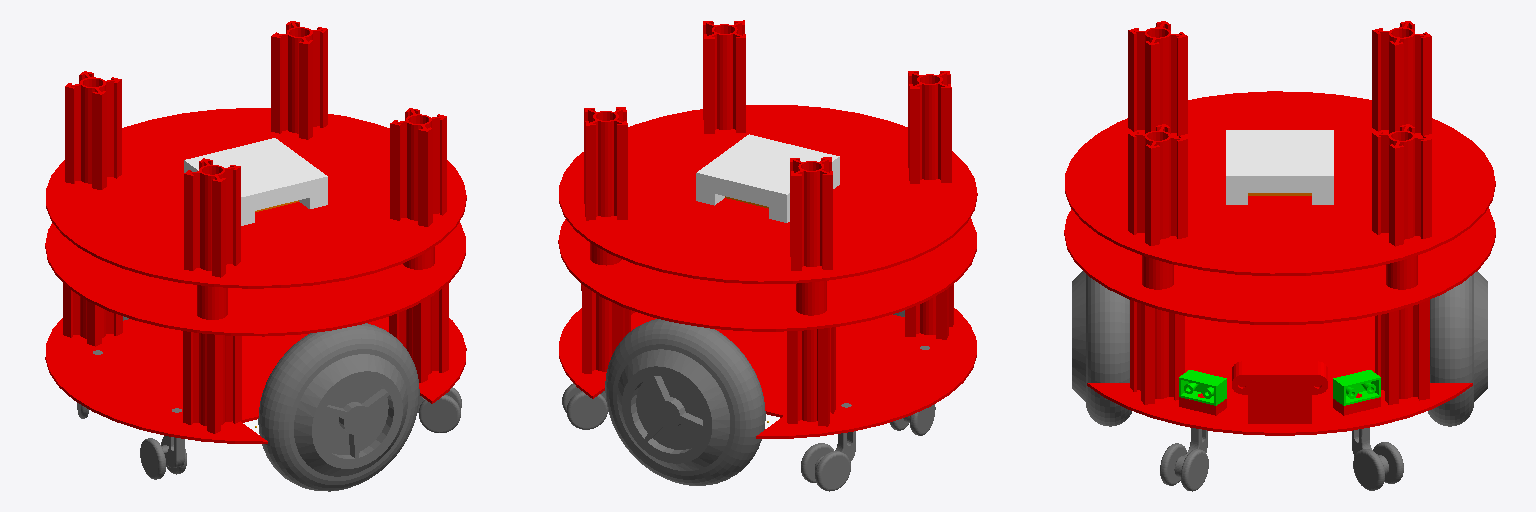
--- Facts derived from the render (not from the file) ---
Views: 3 orthographic renders of the robot side by side, from view 1: azimuth 30°, elevation 25°; view 2: azimuth 150°, elevation 25°; view 3: azimuth 270°, elevation 25°.
Model jason_robot with 17 links and 16 joints (10 continuous, 6 fixed), rooted at base_footprint_link, posed all joints at 0.
Links seen in each view (by area): view 1: base_link, rightwheel_link, imu_link, caster1_link, caster4_link, casterhandle4_link; view 2: base_link, leftwheel_link, imu_link, caster3_link, caster2_link, caster4_link; view 3: base_link, imu_link, rightwheel_link, leftwheel_link, depth_camera_link, caster2_link, caster1_link, leftsonar_link, rightsonar_link, casterhandle1_link.
Link boxes in pixels (x1,y1,x2,y2): base_link: [45, 21, 466, 443]; rightwheel_link: [258, 323, 419, 491]; imu_link: [184, 138, 327, 225]; caster1_link: [419, 387, 461, 432]; caster4_link: [140, 436, 186, 479]; casterhandle4_link: [161, 408, 184, 467]; base_link: [558, 20, 977, 438]; leftwheel_link: [605, 319, 765, 485]; imu_link: [696, 134, 839, 222]; caster3_link: [801, 443, 850, 491]; caster2_link: [562, 383, 607, 429]; caster4_link: [890, 404, 935, 435]; base_link: [1064, 21, 1495, 435]; imu_link: [1226, 130, 1333, 204]; rightwheel_link: [1072, 271, 1131, 426]; leftwheel_link: [1428, 271, 1487, 426]; depth_camera_link: [1232, 361, 1327, 394]; caster2_link: [1353, 442, 1403, 490]; caster1_link: [1160, 443, 1208, 491]; leftsonar_link: [1333, 370, 1380, 405]; rightsonar_link: [1179, 370, 1226, 405]; casterhandle1_link: [1174, 428, 1207, 476].
Size in the robot's own frame: 0.4 by 0.4 by 0.342 metres.
16 mesh visuals loaded from 15 distinct referenced files (15 binary STL).

URDF robot description (jason_robot):
<?xml version="1.0" encoding="utf-8"?>
<robot name="jason_robot">

  <!-- base_footprint:to aviod the robot model drop into groud -->
  <link name="base_footprint_link"> 
    <visual>
      <origin rpy = "0.0 0.0 0.0" xyz="0.0 0.0 0.0"/>
      <geometry>
        <sphere radius="0.001"/>
      </geometry>
    </visual>  
  </link>
  <joint name="base_footprint_joint" type="fixed">
    <parent link="base_footprint_link"/>
    <child link="base_link"/>
    <origin xyz = "0.0 0.0 0.0" rpy = "0.0 0.0 0.0"/>
  </joint>

                                        <!-- body -->
  <!-- base -->
  <link name="base_link">
    <inertial>
      <origin xyz="0.00000000 0.10108756 0.00623713" rpy="0 0 0" />
      <mass value="1.82483140" />
      <inertia ixx="0.03024727" ixy="0.00000000" ixz="0.00000000" 
               iyy="0.03975910" iyz="-0.00096624" izz="0.02932123"/>
    </inertial>
    <visual>
      <origin xyz="0 0 0" rpy="0 0 0"/>
      <geometry>
        <mesh filename="package://jason_description/meshes/base_link.STL"/>
      </geometry>
      <material name="Red">
        <color rgba="1 0 0 1"/>
      </material>
    </visual>
    <collision>
      <origin xyz="0 0 0" rpy="0 0 0" />
      <geometry>
        <mesh filename="package://jason_description/meshes/base_link.STL"/>
      </geometry>
    </collision>
  </link>

  <!-- leftwheel -->
  <link name="leftwheel_link">
    <inertial>
      <origin xyz="0.025015 1.5613E-17 3.3827E-17" rpy="0 0 0"/>
      <mass value="0.97002"/>
      <inertia ixx="0.0031479" ixy="-2.0133E-20" ixz="-3.4297E-20" 
               iyy="0.0017677" iyz="-1.0842E-19" izz="0.0017677"/>
    </inertial>
    <visual>
      <origin xyz="0 0 0" rpy="0 0 0"/>
      <geometry>
        <mesh filename="package://jason_description/meshes/leftwheel.STL"/>
      </geometry>
      <material name="Grey">
        <color rgba="0.5 0.5 0.5 1"/>
      </material>
    </visual>
    <collision>
      <origin xyz="0 0 0" rpy="0 0 0"/>
      <geometry>
        <mesh filename="package://jason_description/meshes/leftwheel.STL"/>
      </geometry>
    </collision>
  </link>
  <joint name="leftwheel_joint" type="continuous">
    <origin xyz="0 0.135 0.085" rpy="1.9846 0 1.5708"/>
    <parent link="base_link"/>
    <child link="leftwheel_link"/>
    <axis xyz="1 0 0"/>
    <limit effort="100" velocity="100"/>
  </joint>
  <transmission name="leftwheel_joint_trans">
    <type>transmission_interface/SimpleTransmission</type>
    <joint name="leftwheel_joint">
        <hardwareInterface>hardware_interface/VelocityJointInterface</hardwareInterface>
    </joint>
    <actuator name="leftwheel_joint_motor">
        <hardwareInterface>hardware_interface/VelocityJointInterface</hardwareInterface>
        <mechanicalReduction>1</mechanicalReduction>
    </actuator>
</transmission>

  <!-- rightwheel -->
  <link name="rightwheel_link">
    <inertial>
      <origin xyz="0.0250147602908531 5.20417042793042E-18 0" rpy="0 0 0" />
      <mass value="0.970024552759726" />
      <inertia ixx="0.0031479187861595" ixy="5.18498633207202E-19" ixz="-4.35193244517078E-19" 
               iyy="0.00176772418850793" iyz="1.62630325872826E-19" izz="0.00176772418850793" />
    </inertial>
    <visual>
      <origin xyz="0 0 0" rpy="0 0 0" />
      <geometry>
        <mesh filename="package://jason_description/meshes/rightwheel.STL" />
      </geometry>
      <material name="Grey">
        <color rgba="0.5 0.5 0.5 1" />
      </material>
    </visual>
    <collision>
      <origin xyz="0 0 0" rpy="0 0 0" />
      <geometry>
        <mesh filename="package://jason_description/meshes/rightwheel.STL" />
      </geometry>
    </collision>
  </link>
  <joint name="rightwheel_joint" type="continuous">
    <origin xyz="0 -0.135 0.085" rpy="0.5198 0 -1.5708" />
    <parent link="base_link" />
    <child link="rightwheel_link" />
    <axis xyz="-1 0 0" />
    <limit effort="100" velocity="100" />
  </joint>
  <transmission name="rightwheel_joint_trans">
  <type>transmission_interface/SimpleTransmission</type>
  <joint name="rightwheel_joint">
      <hardwareInterface>hardware_interface/VelocityJointInterface</hardwareInterface>
  </joint>
  <actuator name="rightwheel_joint_motor">
      <hardwareInterface>hardware_interface/VelocityJointInterface</hardwareInterface>
      <mechanicalReduction>1</mechanicalReduction>
  </actuator>
</transmission>

  <!-- casterhandle1 -->
  <link name="casterhandle1_link">
    <inertial>
      <origin xyz="0 0.0297669849189359 -0.00695284912191863" rpy="0 0 0" />
      <mass value="0.0107364974282701" />
      <inertia ixx="5.80576146335529E-06" ixy="-2.43521972335611E-21" ixz="-1.48230765769503E-21"
               iyy="1.45396246086487E-06" iyz="-1.41313210015193E-06" izz="4.55928007631684E-06" />
    </inertial>
    <visual>
      <origin xyz="0 0 0" rpy="0 0 0" />
      <geometry>
        <mesh filename="package://jason_description/meshes/casterhandle1.STL" />
      </geometry>
      <material name="Grey">
        <color rgba="0.5 0.5 0.5 1" />
      </material>
    </visual>
    <collision>
      <origin xyz="0 0 0" rpy="0 0 0" />
      <geometry>
        <mesh filename="package://jason_description/meshes/casterhandle1.STL" />
      </geometry>
    </collision>
  </link>
  <joint name="casterhandle1_joint" type="continuous">
    <origin xyz="0.1299 -0.075 0.01" rpy="1.5708 0 -2.1443" />
    <parent link="base_link" />
    <child link="casterhandle1_link" />
    <axis xyz="0 -1 0" />
    <limit effort="100" velocity="100" />
  </joint>

  <!-- caster1 -->
  <link name="caster1_link">
    <inertial>
      <origin xyz="0 0 0" rpy="0 0 0" />
      <mass value="0.0203459824312811" />
      <inertia ixx="3.68448896895517E-06" ixy="2.38228016415272E-22" ixz="2.01170324972896E-21"
               iyy="4.49587566651826E-06" iyz="-1.05879118406788E-22" izz="4.49587566651827E-06" />
    </inertial>
    <visual>
      <origin xyz="0 0 0" rpy="0 0 0" />
      <geometry>
        <mesh filename="package://jason_description/meshes/caster1.STL" />
      </geometry>
      <material name="Grey">
        <color rgba="0.5 0.5 0.5 1" />
      </material>
    </visual>
    <collision>
      <origin xyz="0 0 0" rpy="0 0 0" />
      <geometry>
        <mesh filename="package://jason_description/meshes/caster1.STL" />
      </geometry>
    </collision>
  </link>
  <joint name="caster1_joint" type="continuous">
    <origin xyz="0 0.01 -0.025" rpy="-0.21648 0 -3.1416" />
    <parent link="casterhandle1_link" />
    <child link="caster1_link" />
    <axis xyz="1 0 0" />
    <limit effort="100" velocity="100" />
  </joint>

  <!-- casterhandle2 -->
  <link name="casterhandle2_link">
    <inertial>
      <origin xyz="2.08166817117217E-17 0.0297669849189359 -0.00695284912191868" rpy="0 0 0" />
      <mass value="0.0107364974282701" />
      <inertia ixx="5.80576146335528E-06" ixy="-5.29395592033938E-22" ixz="-1.27054942088145E-21"
               iyy="1.45396246086487E-06" iyz="-1.41313210015192E-06" izz="4.55928007631684E-06" />
    </inertial>
    <visual>
      <origin xyz="0 0 0" rpy="0 0 0" />
      <geometry>
        <mesh filename="package://jason_description/meshes/casterhandle2.STL" />
      </geometry>
      <material name="Grey">
        <color rgba="0.5 0.5 0.5 1" />
      </material>
    </visual>
    <collision>
      <origin xyz="0 0 0" rpy="0 0 0" />
      <geometry>
        <mesh filename="package://jason_description/meshes/casterhandle2.STL" />
      </geometry>
    </collision>
  </link>
  <joint name="casterhandle2_joint" type="continuous">
    <origin xyz="0.1299 0.075 0.01" rpy="1.5708 0 -0.85675" />
    <parent link="base_link" />
    <child link="casterhandle2_link" />
    <axis xyz="0 -1 0" />
    <limit effort="100" velocity="100" />
  </joint>

  <!-- caster2 -->
  <link name="caster2_link">
    <inertial>
      <origin xyz="5.55111512312578E-17 0 0" rpy="0 0 0" />
      <mass value="0.0203459824312811" />
      <inertia ixx="3.68448896895516E-06" ixy="-1.05879118406788E-22" ixz="-2.64697796016969E-23" 
               iyy="4.49587566651826E-06" iyz="-1.58818677610181E-22" izz="4.49587566651826E-06" />
    </inertial>
    <visual>
      <origin xyz="0 0 0" rpy="0 0 0" />
      <geometry>
        <mesh filename="package://jason_description/meshes/caster2.STL" />
      </geometry>
      <material name="Grey">
        <color rgba="0.5 0.5 0.5 1" />
      </material>
    </visual>
    <collision>
      <origin xyz="0 0 0" rpy="0 0 0" />
      <geometry>
        <mesh filename="package://jason_description/meshes/caster2.STL" />
      </geometry>
    </collision>
  </link>
  <joint name="caster2_joint" type="continuous">
    <origin xyz="0 0.01 -0.025" rpy="-1.4513 0 0" />
    <parent link="casterhandle2_link" />
    <child link="caster2_link" />
    <axis xyz="1 0 0" />
    <limit effort="100" velocity="100" />
  </joint>

  <!-- casterhandle3 -->
  <link name="casterhandle3_link">
    <inertial>
      <origin xyz="0 0.0297669849189359 -0.00695284912191872" rpy="0 0 0" />
      <mass value="0.0107364974282701" />
      <inertia ixx="5.80576146335528E-06" ixy="-3.17637355220363E-22" ixz="-3.17637355220363E-22"
               iyy="1.45396246086487E-06" iyz="-1.41313210015192E-06" izz="4.55928007631684E-06" />
    </inertial>
    <visual>
      <origin xyz="0 0 0" rpy="0 0 0" />
      <geometry>
        <mesh filename="package://jason_description/meshes/casterhandle3.STL" />
      </geometry>
      <material name="Grey">
        <color rgba="0.5 0.5 0.5 1" />
      </material>
    </visual>
    <collision>
      <origin xyz="0 0 0" rpy="0 0 0" />
      <geometry>
        <mesh filename="package://jason_description/meshes/casterhandle3.STL" />
      </geometry>
    </collision>
  </link>
  <joint name="casterhandle3_joint" type="continuous">
    <origin xyz="-0.1299 0.075 0.01" rpy="1.5708 0 -0.39591" />
    <parent link="base_link" />
    <child link="casterhandle3_link" />
    <axis xyz="0 -1 0" />
    <limit effort="100" velocity="100" />
  </joint>

  <!-- caster3 -->
  <link name="caster3_link">
    <inertial>
      <origin xyz="1.38777878078145E-16 0 -6.93889390390723E-18" rpy="0 0 0" />
      <mass value="0.0203459824312811" />
      <inertia ixx="3.68448896895516E-06" ixy="-1.58818677610181E-22" ixz="1.27054942088145E-21"
               iyy="4.49587566651827E-06" iyz="-1.32348898008484E-22" izz="4.49587566651827E-06" />
    </inertial>
    <visual>
      <origin xyz="0 0 0" rpy="0 0 0" />
      <geometry>
        <mesh filename="package://jason_description/meshes/caster3.STL" />
      </geometry>
      <material name="Grey">
        <color rgba="0.5 0.5 0.5 1" />
      </material>
    </visual>
    <collision>
      <origin xyz="0 0 0" rpy="0 0 0" />
      <geometry>
        <mesh filename="package://jason_description/meshes/caster3.STL" />
      </geometry>
    </collision>
  </link>
  <joint name="caster3_joint" type="continuous">
    <origin xyz="0 0.01 -0.025" rpy="0.53778 0 0" />
    <parent link="casterhandle3_link" />
    <child link="caster3_link" />
    <axis xyz="1 0 0" />
    <limit effort="100" velocity="100" />
  </joint>

  <!-- casterhandle4 -->
  <link name="casterhandle4_link">
    <inertial>
      <origin xyz="2.77555756156289E-17 0.0297669849189359 -0.00695284912191868" rpy="0 0 0" />
      <mass value="0.0107364974282701" />
      <inertia ixx="5.80576146335528E-06" ixy="6.37425380033363E-21" ixz="5.84982129197501E-21"
               iyy="1.45396246086487E-06" iyz="-1.41313210015192E-06" izz="4.55928007631684E-06" />
    </inertial>
    <visual>
      <origin xyz="0 0 0" rpy="0 0 0" />
      <geometry>
        <mesh filename="package://jason_description/meshes/casterhandle4.STL" />
      </geometry>
      <material name="Grey">
        <color rgba="0.5 0.5 0.5 1" />
      </material>
    </visual>
    <collision>
      <origin xyz="0 0 0" rpy="0 0 0" />
      <geometry>
        <mesh filename="package://jason_description/meshes/casterhandle4.STL" />
      </geometry>
    </collision>
  </link>
  <joint name="casterhandle4_joint" type="continuous">
    <origin xyz="-0.1299 -0.075 0.01" rpy="1.5708 0 0.0055428" />
    <parent link="base_link" />
    <child link="casterhandle4_link" />
    <axis xyz="0 -1 0" />
    <limit effort="100" velocity="100" />
  </joint>

  <!-- caster4 -->
  <link name="caster4_link">
    <inertial>
      <origin xyz="5.55111512312578E-17 6.93889390390723E-18 -1.38777878078145E-17" rpy="0 0 0" />
      <mass value="0.020345982431281" />
      <inertia ixx="3.68448896895516E-06" ixy="-1.61920604907255E-21" ixz="-3.8513529320469E-21"
               iyy="4.49587566651826E-06" iyz="-1.83874818469722E-22" izz="4.49587566651826E-06" />
    </inertial>
    <visual>
      <origin xyz="0 0 0" rpy="0 0 0" />
      <geometry>
        <mesh filename="package://jason_description/meshes/caster4.STL" />
      </geometry>
      <material name="Grey">
        <color rgba="0.5 0.5 0.5 1" />
      </material>
    </visual>
    <collision>
      <origin xyz="0 0 0" rpy="0 0 0" />
      <geometry>
        <mesh filename="package://jason_description/meshes/caster4.STL" />
      </geometry>
    </collision>
  </link>
  <joint name="caster4_joint" type="continuous">
    <origin xyz="0 0.01 -0.025" rpy="0.20426 0 0" />
    <parent link="casterhandle4_link" />
    <child link="caster4_link" />
    <axis xyz="1 0 0" />
    <limit effort="100" velocity="100" />
  </joint>

  <!-- imu -->
  <link name="imu_link">
    <inertial>
      <origin xyz="0 0 0" rpy="0 0 0" />
      <mass value="0" />
      <inertia ixx="0" ixy="0" ixz="0"
               iyy="0" iyz="0" izz="0" />
    </inertial>
    <visual>
      <origin xyz="0 0 0" rpy="0 0 0" />
      <geometry>
        <mesh filename="package://jason_description/meshes/imu.STL" />
      </geometry>
      <material name="White">
        <color rgba="1 1 1 1" />
      </material>
    </visual>
    <collision>
      <origin xyz="0 0 0" rpy="0 0 0" />
      <geometry>
        <mesh filename="package://jason_description/meshes/imu.STL" />
      </geometry>
    </collision>
  </link>
  <joint name="imu_joint" type="fixed">
    <origin xyz="0 0 0.241" rpy="0 0 1.5708" />
    <parent link="base_link" />
    <child link="imu_link" />
    <axis xyz="0 0 0" />
  </joint>  

                                        <!-- sensors -->
  <!-- lidar -->
  <link name="lidar_link">
    <inertial>
      <origin xyz="4.09310872603549E-16 3.99729920717014E-16 0.0153948317043902" rpy="0 0 0" />
      <mass value="0.0840106255359657" />
      <inertia ixx="2.77081844063037E-05" ixy="1.41172157875717E-21" ixz="2.29728265499214E-22" 
               iyy="2.77081844063037E-05" iyz="3.63907857867545E-22" izz="3.448474197593E-05" />
    </inertial>
    <visual>
      <origin xyz="0 0 0" rpy="3.14159 0 0" />
      <geometry>
        <mesh filename="package://jason_description/meshes/lidar.STL" />
      </geometry>
      <material name="Orange">
        <color rgba="1.0 0.5 0 1" />
      </material>
    </visual>
    <collision>
      <origin xyz="0 0 0" rpy="0 0 0" />
      <geometry>
        <mesh filename="package://jason_description/meshes/lidar.STL" />
      </geometry>
    </collision>
  </link>
  <joint name="lidar_joint" type="fixed">
    <origin xyz="0 0 0.248" rpy="0  0  0" />
    <parent link="base_link" />
    <child link="lidar_link" />
    <axis xyz="0 0 0" />
  </joint>

                                          <!-- camera -->
  <!-- camera -->
  <link name="depth_camera_link">
    <inertial>
      <origin xyz="0.00885919804493583 0.011427228102544 0.0149191163471901" rpy="0 0 0" />
      <mass value="0.0503377869026273" />
      <inertia ixx="5.40435557385604E-06" ixy="-2.01817407752424E-21" ixz="2.43872238839389E-22"
               iyy="3.51518348354752E-05" iyz="-3.17629361829215E-10" izz="3.29633328279795E-05" />
    </inertial>
    <visual>
      <origin xyz="0 0 0" rpy="1.5708 0 1.5708" />
      <geometry>
        <mesh filename="package://jason_description/meshes/depth_camera.STL" />
      </geometry>
      <material name="Red">
        <color rgba="1 0 0 1" />
      </material>
    </visual>
    <collision>
      <origin xyz="0 0 0" rpy="0 0 0" />
      <geometry>
        <mesh filename="package://jason_description/meshes/depth_camera.STL" />
      </geometry>
    </collision>
  </link>
  <joint name="depth_camera_joint" type="fixed">
    <origin xyz="0.15 -0.0088592 0.10665" rpy="0 0 0" />
    <parent link="base_link" />
    <child link="depth_camera_link" />
    <axis xyz="0 0 0" />
  </joint>

                                        <!-- sonars -->
  <!-- leftsonar -->
  <link name="leftsonar_link">
    <inertial>
      <origin xyz="0.00792027808007231 0.000168686050255766 -3.40353925598613E-11" rpy="0 0 0" />
      <mass value="0.00838075367254196" />
      <inertia ixx="1.66380504569355E-06" ixy="-2.94013297145479E-09" ixz="2.87516389806945E-15"
               iyy="1.63719750563248E-06" iyz="-9.53790082675265E-13" izz="6.5615682924952E-07" />
    </inertial>
    <visual>
      <origin xyz="0 0 0" rpy="0 0 0" />
      <geometry>
        <mesh filename="package://jason_description/meshes/sonar.STL" />
      </geometry>
      <material name="Green">
        <color rgba="0 1 0 1" />
      </material>
    </visual>
    <collision>
      <origin xyz="0 0 0" rpy="0 0 0" />
      <geometry>
        <mesh filename="package://jason_description/meshes/sonar.STL" />
      </geometry>
    </collision>
  </link>
  <joint
    name="leftsonar_joint"
    type="fixed">
    <origin xyz="0.1349 0.06634 0.098" rpy="1.5708 0 0.5236" />
    <parent link="base_link" />
    <child link="leftsonar_link" />
    <axis xyz="0 0 0" />
  </joint>

  <!-- right_sonar -->
  <link name="rightsonar_link">
    <inertial>
      <origin xyz="0.00792027808007228 0.000168686050255773 -3.40354064376491E-11" rpy="0 0 0" />
      <mass value="0.00838075367254196" />
      <inertia ixx="1.66380504569355E-06" ixy="-2.94013297145484E-09" ixz="2.87516246870135E-15"
               iyy="1.63719750563248E-06" iyz="-9.53790082856004E-13" izz="6.5615682924952E-07" />
    </inertial>
    <visual>
      <origin xyz="0 0 0" rpy="0 0 0" />
      <geometry>
        <mesh filename="package://jason_description/meshes/sonar.STL" />
      </geometry>
      <material name="Green">
        <color rgba="0 1 0 1" />
      </material>
    </visual>
    <collision>
      <origin xyz="0 0 0" rpy="0 0 0" />
      <geometry>
        <mesh filename="package://jason_description/meshes/sonar.STL" />
      </geometry>
    </collision>
  </link>
  <joint name="rightsonar_joint" type="fixed">
    <origin xyz="0.1349 -0.06634 0.098" rpy="1.5708 0 -0.5236" />
    <parent link="base_link" />
    <child link="rightsonar_link" />
    <axis xyz="0 0 0" />
  </joint>

                                        <!-- gazebo plugin for WHEELS -->
  <gazebo>
    <plugin name="differential_drive_controller" filename="libgazebo_ros_diff_drive.so">
      <updateRate>10</updateRate>
      <leftJoint>leftwheel_joint</leftJoint>
      <rightJoint>rightwheel_joint</rightJoint>
      <!-- The distance from the center of one wheel to the other, in meters, defaults to 0.34 m -->
      <wheelSeparation>0.315</wheelSeparation>
      <wheelDiameter>0.17</wheelDiameter>
      <!-- Wheel acceleration, in rad/s^2, defaults to 0.0 rad/s^2 -->
      <wheelAcceleration>2.0</wheelAcceleration>
      <!-- Maximum torque which the wheels can produce, in Nm, defaults to 5 Nm -->
      <wheelTorque>40</wheelTorque>
      <commandTopic>cmd_vel_b</commandTopic>
      <odometryTopic>odom</odometryTopic>
      <odometryFrame>odom</odometryFrame>
      <robotBaseFrame>base_footprint_link</robotBaseFrame>
      <!-- Odometry source, 0 for ENCODER, 1 for WORLD, defaults to WORLD -->
      <odometrySource>1</odometrySource>
      <publishWheelTF>true</publishWheelTF>
      <publishOdom>true</publishOdom>
      <publishWheelJointState>true</publishWheelJointState>
      <!-- Set to true to swap right and left wheels, defaults to true -->
      <legacyMode>false</legacyMode>
    </plugin>
  </gazebo>

                                        <!-- gazebo plugin for LIDAR -->
  <gazebo reference="lidar_link">
    <sensor type="ray" name="head_hokuyo_sensor">
      <pose>0 0 -0.03 0 0 0</pose>
      <visualize>true</visualize>
      <update_rate>15</update_rate> 
      <ray>
        <scan>
          <horizontal>
            <!-- 水平角分辨率LDS-E300-E: 0.5°@25HZ -->
            <samples>720</samples>
            <resolution>1</resolution>
            <min_angle>-3.1415926535</min_angle>
            <!-- <min_angle>-1.570796</min_angle> -->
            <max_angle>3.1415926535</max_angle>
            <!-- <max_angle>1.570796</max_angle> -->
          </horizontal>
        </scan>
        <range>
          <!-- 0.1-25m（90%） -->
          <min>0.21</min>
          <max>25.0</max>
          <!-- 距离分辨率mm级 -->
          <resolution>0.01</resolution>
        </range>
        <noise>
          <type>gaussian</type>
          <!-- Noise parameters based on published spec for Hokuyo laser
                achieving "+-30mm" accuracy at range < 10m.  A mean of 0.0m and
                stddev of 0.01m will put 99.7% of samples within 0.03m of the true
                reading. -->
          <mean>0.0</mean>
          <stddev>0.01</stddev>
        </noise>
      </ray>
      <!-- GPU Laser -->
      <!-- <plugin name="gazebo_ros_head_hokuyo_controller" filename="libgazebo_ros_gpu_laser.so"> -->
        <plugin name="gazebo_ros_head_hokuyo_controller" filename="libgazebo_ros_laser.so">
        <topicName>/scan_b</topicName>
        <frameName>lidar_link</frameName>
      </plugin>
    </sensor>
  </gazebo>                                        

                                        <!-- gazebo plugin for DEPTH_CAMERA -->
 <gazebo reference="depth_camera_link">
  <sensor type="depth" name="camera">
    <always_on>true</always_on>
    <update_rate>90.0</update_rate>  <!-- 根据深度分辨率的帧率 -->
    <camera>
      <!-- 深度相机参数 -->
      <horizontal_fov>1.50098</horizontal_fov>  <!-- 86° -> 1.50098 弧度 -->
      <image>
        <format>B8G8R8</format>
        <width>1280</width>
        <height>720</height>
      </image>
      <clip>
        <near>0.3</near>  <!-- 根据理想范围参数 -->
        <far>3.0</far>    <!-- 根据理想范围参数 -->
      </clip>
    </camera>
    <plugin name="camera_plugin" filename="libgazebo_ros_openni_kinect.so">
      <baseline>0.025</baseline>  <!-- 根据相机尺寸估算 -->
      <alwaysOn>true</alwaysOn>
      <updateRate>0.0</updateRate> <!-- 保持为0，使用父级<sensor>标签中的update_rate来控制帧率 -->
      <cameraName>camera_ir</cameraName>
      <imageTopicName>/camera/color/image_raw</imageTopicName>
      <cameraInfoTopicName>/camera/color/camera_info</cameraInfoTopicName>
      <depthImageTopicName>/camera/depth/image_raw</depthImageTopicName>
      <depthImageCameraInfoTopicName>/camera/depth/camera_info</depthImageCameraInfoTopicName>
      <pointCloudTopicName>/camera/depth/points</pointCloudTopicName>
      <frameName>depth_camera_link</frameName>
      <pointCloudCutoff>0.3</pointCloudCutoff>  <!-- 根据理想范围参数 -->
      <pointCloudCutoffMax>3.0</pointCloudCutoffMax>  <!-- 根据理想范围参数 -->
      <distortionK1>0</distortionK1>
      <distortionK2>0</distortionK2>
      <distortionK3>0</distortionK3>
      <distortionT1>0</distortionT1>
      <distortionT2>0</distortionT2>
      <CxPrime>0</CxPrime>
      <Cx>0</Cx>
      <Cy>0</Cy>
      <focalLength>0</focalLength>
      <hackBaseline>0</hackBaseline>
    </plugin>
  </sensor>
</gazebo>

                                        <!-- gazebo plugin for IMU__LINK -->
<gazebo reference="imu_link">
  <gravity>true</gravity>
  <sensor name="imu_sensor" type="imu">
    <always_on>true</always_on>
    <update_rate>100</update_rate>
    <visualize>true</visualize>
    <topic>__default_topic__</topic>
    <plugin filename="libgazebo_ros_imu_sensor.so" name="imu_plugin">
      <topicName>imu/data</topicName>
      <bodyName>body_link</bodyName>
      <updateRateHZ>100.0</updateRateHZ>
      <gaussianNoise>0.0</gaussianNoise>
      <xyzOffset>0 0 0</xyzOffset>
      <rpyOffset>0 0 0</rpyOffset>
      <frameName>imu_link</frameName>
    </plugin>
    <pose>0 0 0 0 0 0</pose>
  </sensor>
</gazebo>

                                        <!-- gazebo plugin for color -->
  <!-- base_link颜色 -->
  <gazebo reference = "base_link">
    <material>Gazebo/Red</material>
  </gazebo>

</robot>
